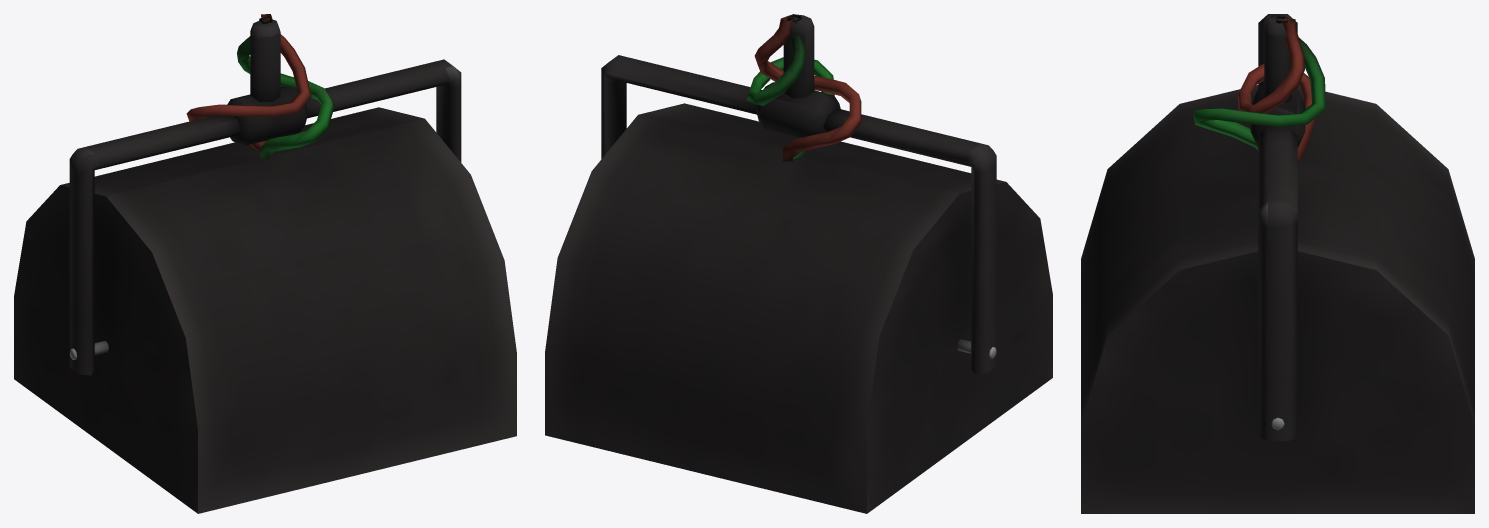
File: Lamp_03.glb
The picture shows the model from 3 angles, left to right: view 1: azimuth 30°, elevation 25°; view 2: azimuth 150°, elevation 25°; view 3: azimuth 270°, elevation 25°; orthographic projection. The views are drawn at different scales.
Visible parts, largest first — view 1: Lamp_03.001; view 2: Lamp_03.001; view 3: Lamp_03.001.
Part boxes in pixels (x1,y1,x2,y2): Lamp_03.001: (14, 14, 516, 513); Lamp_03.001: (545, 14, 1052, 513); Lamp_03.001: (1081, 14, 1474, 513).
Size of the model in its own units: 0.2428 by 0.2319 by 0.2.
Materials: 1 (1 with a texture image).
